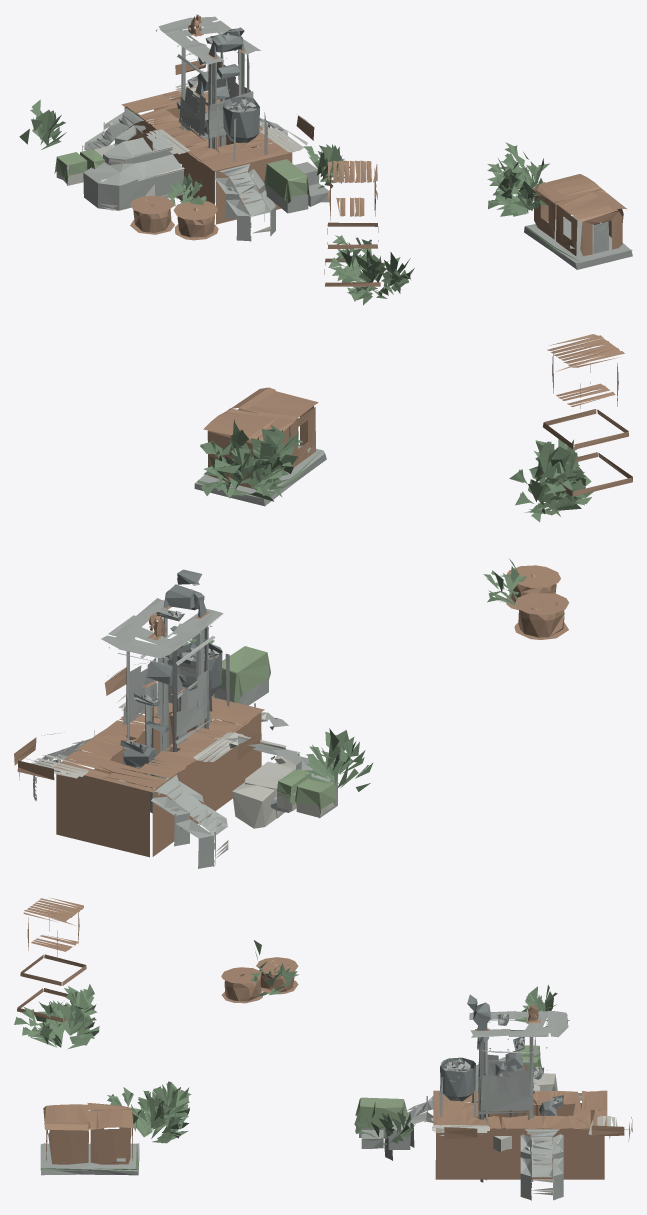
File: mining_quarry_c.glb
3 renders of one model, top to bottom at view 1: azimuth 30°, elevation 25°; view 2: azimuth 150°, elevation 25°; view 3: azimuth 270°, elevation 25°, orthographic. The views are drawn at different scales.
Visible parts, largest first — view 1: retaining_wall_corner_LOD0, retaining_wall_cover_a_LOD0, remnant_container_6x4_LOD0, quarry_track_LOD0, wooden_crate_e; view 2: retaining_wall_cover_a_LOD0, retaining_wall_corner_LOD0, remnant_container_6x4_LOD0, quarry_track_LOD0, wooden_crate_e; view 3: retaining_wall_cover_a_LOD0, retaining_wall_corner_LOD0, remnant_container_6x4_LOD0, quarry_track_LOD0, wooden_crate_e.
Boxes of the visible parts, x1,y1,x2,y2 form: retaining_wall_corner_LOD0: [56, 16, 632, 269]; retaining_wall_cover_a_LOD0: [121, 14, 626, 286]; remnant_container_6x4_LOD0: [19, 99, 632, 305]; quarry_track_LOD0: [176, 27, 259, 142]; wooden_crate_e: [54, 149, 310, 203]; retaining_wall_cover_a_LOD0: [14, 334, 632, 857]; retaining_wall_corner_LOD0: [18, 418, 337, 868]; remnant_container_6x4_LOD0: [172, 419, 593, 791]; quarry_track_LOD0: [120, 569, 222, 782]; wooden_crate_e: [214, 646, 336, 813]; retaining_wall_cover_a_LOD0: [17, 897, 632, 1179]; retaining_wall_corner_LOD0: [40, 1004, 631, 1200]; remnant_container_6x4_LOD0: [14, 940, 557, 1170]; quarry_track_LOD0: [440, 994, 563, 1115]; wooden_crate_e: [354, 1045, 541, 1133].
Bounding box in the file's own units: 28.84 × 16.78 × 43.36.
